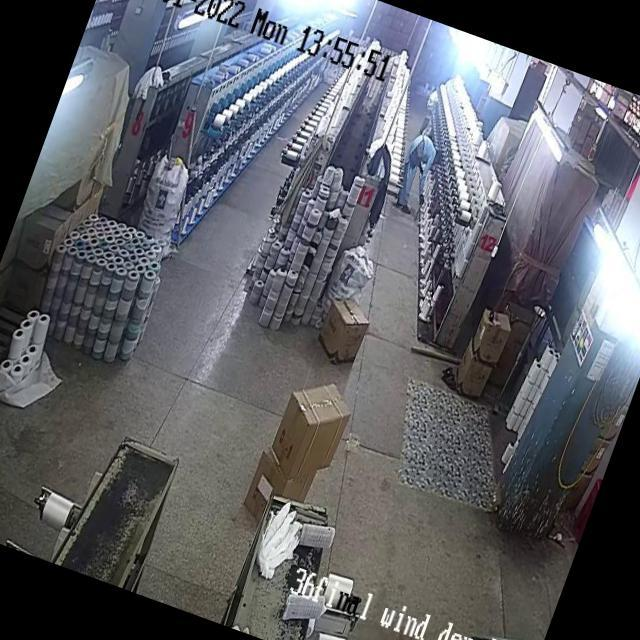person: (388, 127, 449, 219)
